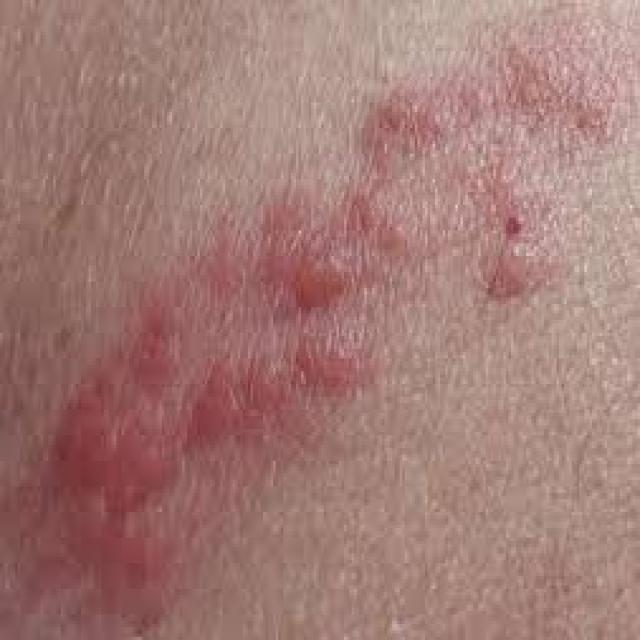Shingles: (23, 48, 596, 583)
